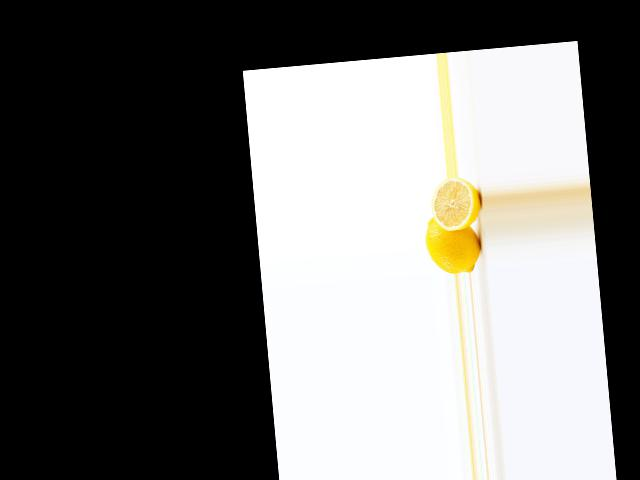lemon: (422, 211, 485, 274)
